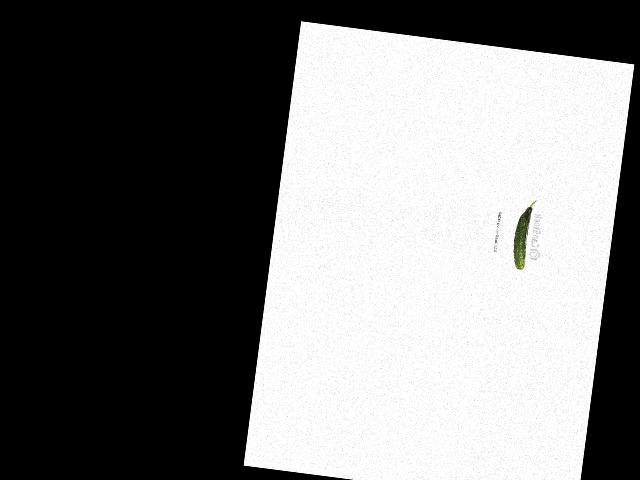cucumber: (510, 198, 536, 270)
